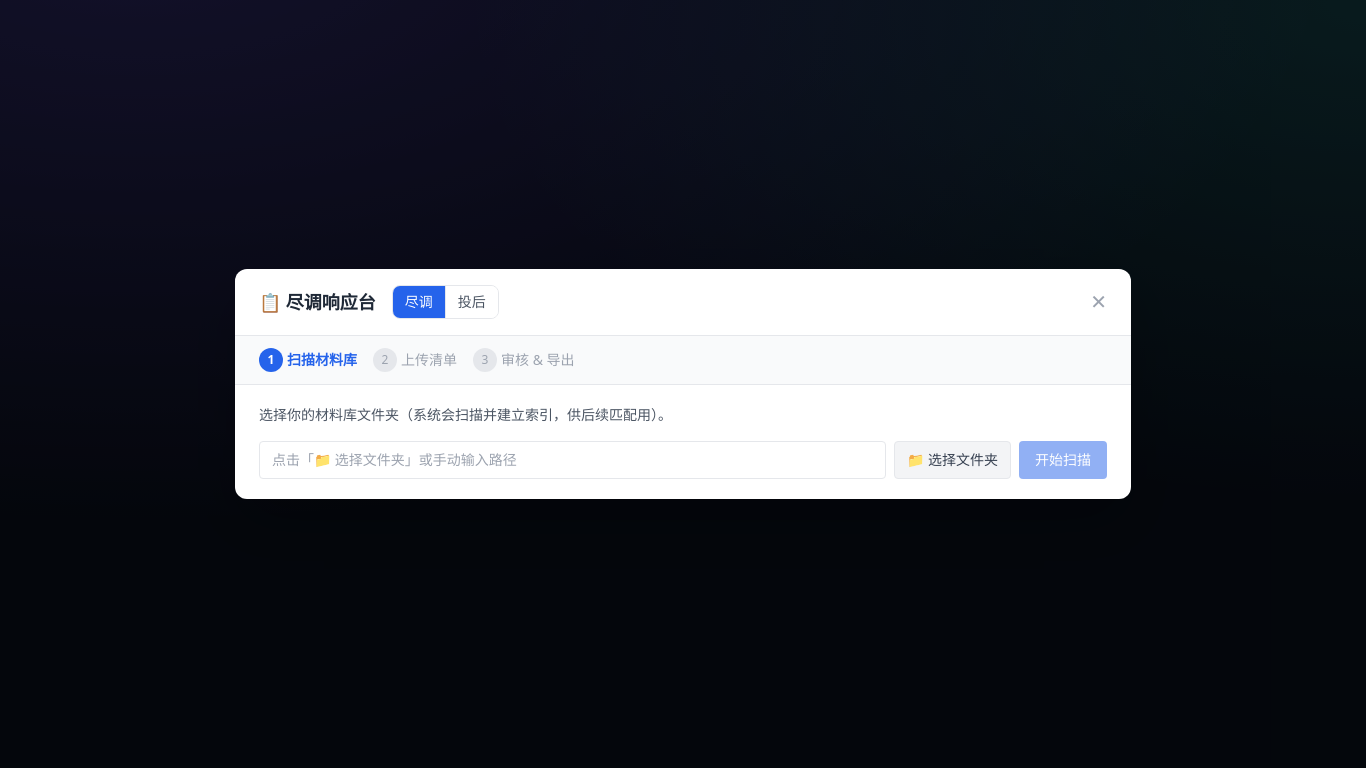
Test case: DueDiligenceWizard 布局徽章 › flat 扫描完成显示平铺徽章
The image size is (1366, 768).
In the field with placeholder "点击「📁 选择文件夹」或手动输入路径": [573, 460] box 259,441 -> 886,479, type "/材料库"
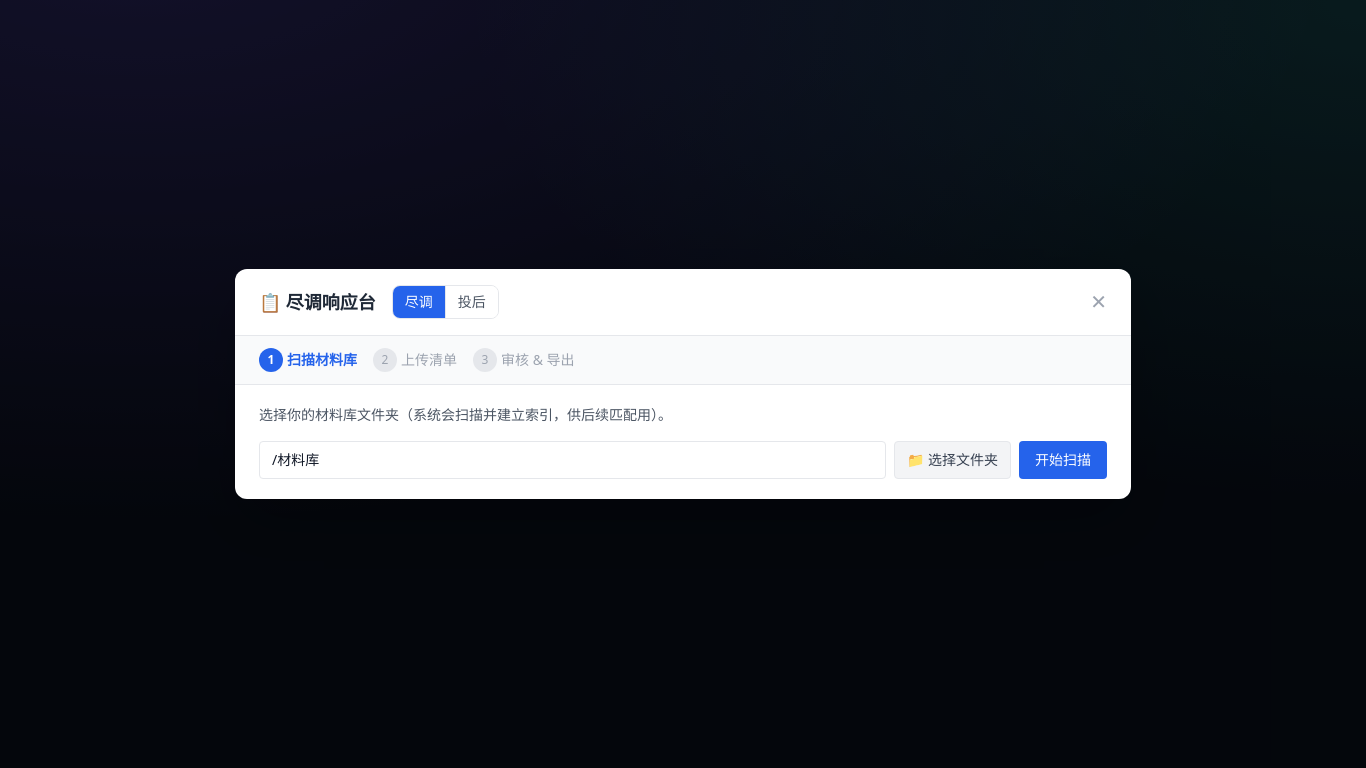
Click the button "开始扫描": [1063, 460] box 1019,441 -> 1107,479
Wait 1600 ms
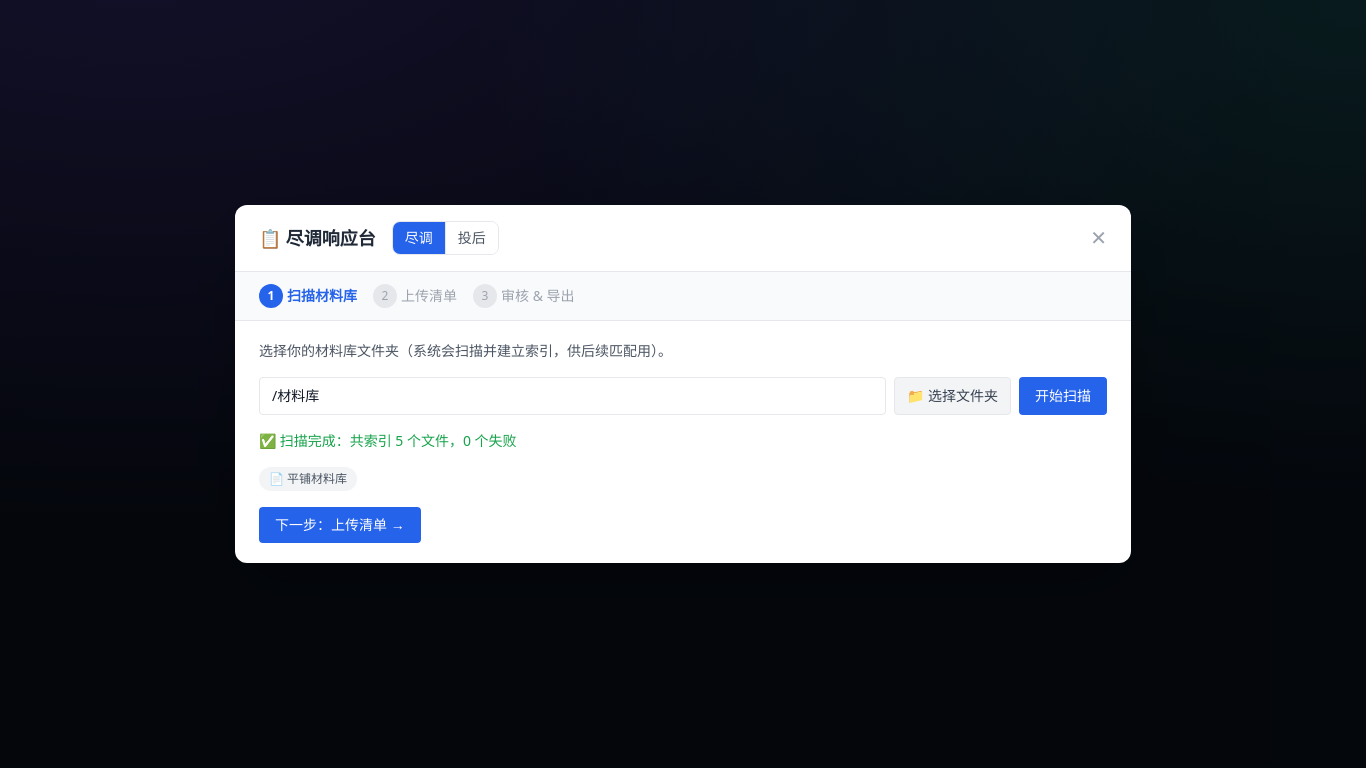
expect the text "📄 平铺材料库" is shown: met, box 259,467 -> 357,491
